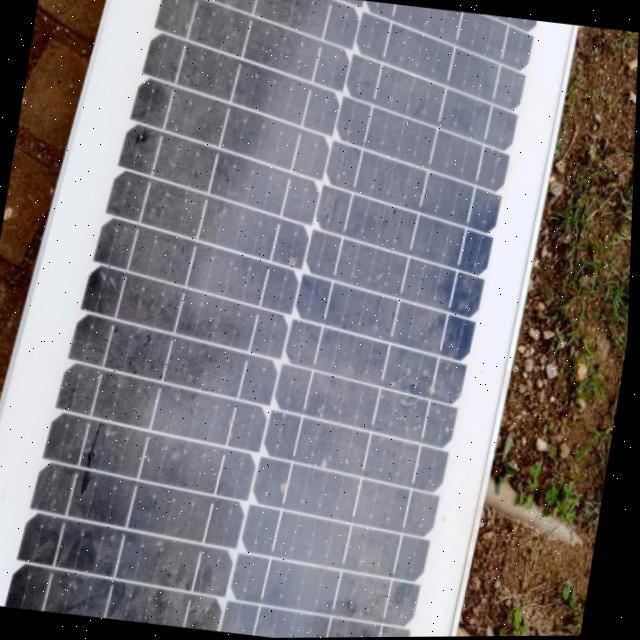Surface Contaminant: (25, 0, 413, 638)
